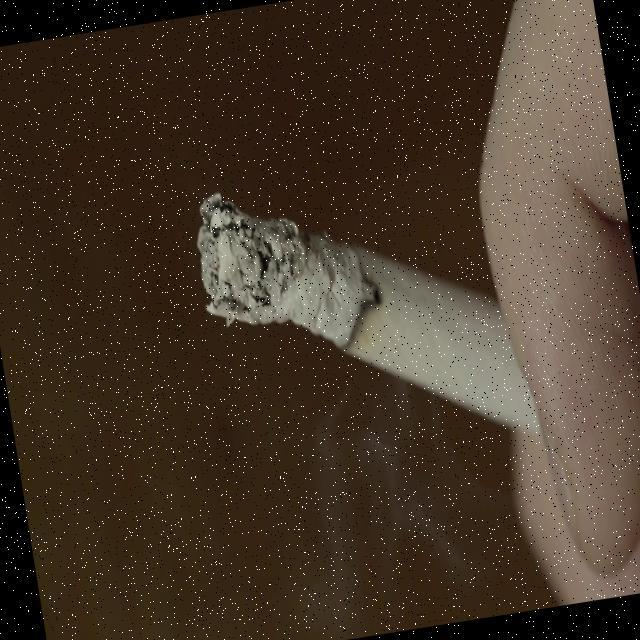cigarette: (179, 116, 541, 492)
